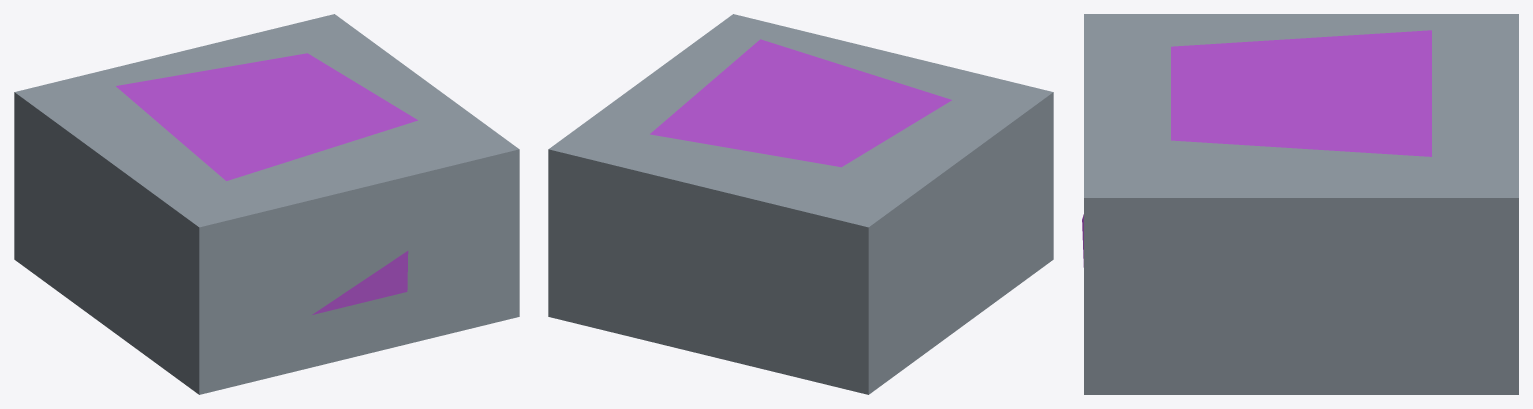
The model's file is CH_WarFactory_LOD1.glb.
3 renders of one model, left to right at view 1: azimuth 30°, elevation 25°; view 2: azimuth 150°, elevation 25°; view 3: azimuth 270°, elevation 25°, orthographic. The views are drawn at different scales.
Parts seen in each view (by area): view 1: EntranceGate; view 2: EntranceGate; view 3: EntranceGate.
Boxes of the visible parts, x1,y1,x2,y2 form: EntranceGate: (14, 14, 519, 394); EntranceGate: (548, 14, 1053, 394); EntranceGate: (1082, 14, 1518, 394).
Size of the model in its own units: 800 by 442 by 803.
